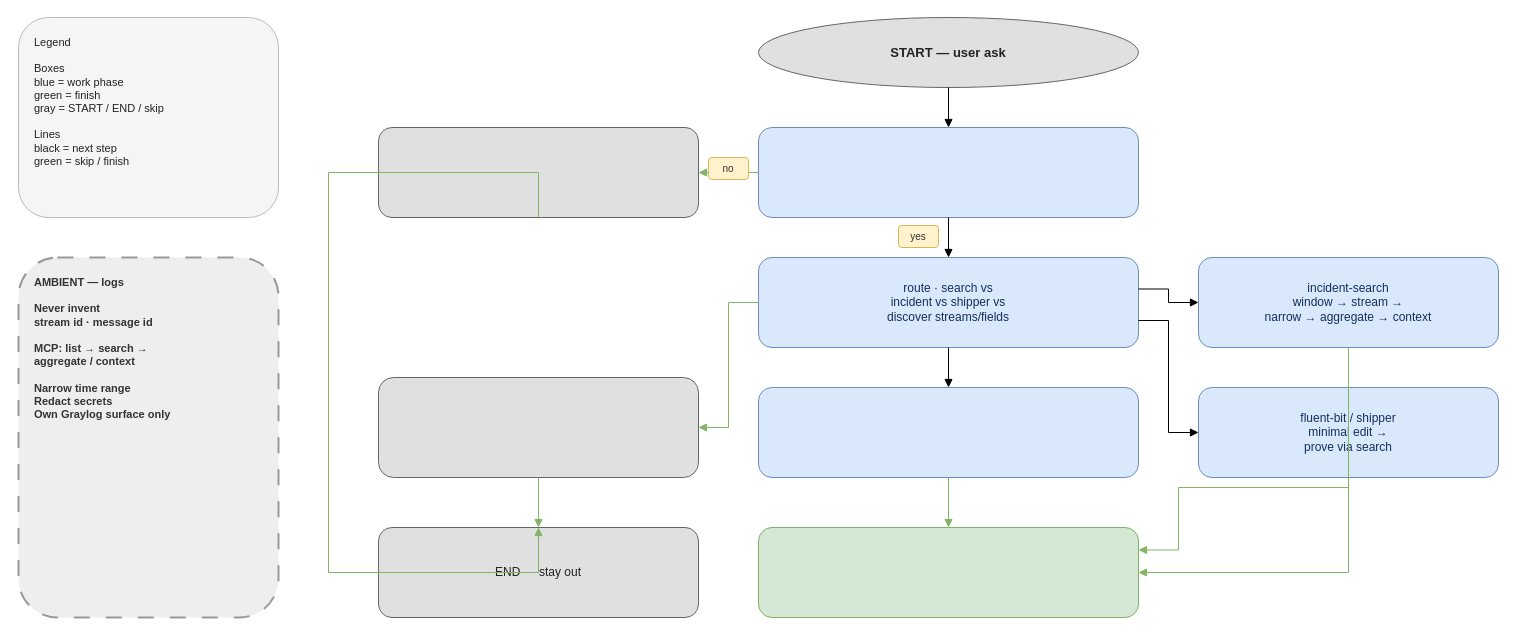
The diagram is 1516 pixels wide and 636 high, and some of its shapes have lost their labels. The centre of each missing label's shape, as x and y in pixels:
END — finding query / window / stream: (948,572)
gate · Graylog? log search / stream / shipper / incident named?: (948,172)
refuse dump redact secrets (graylog-safety): (538,427)
search / aggregate list → Lucene → summarize (redacted): (948,432)
skip — no Graylog surface this turn: (538,172)
